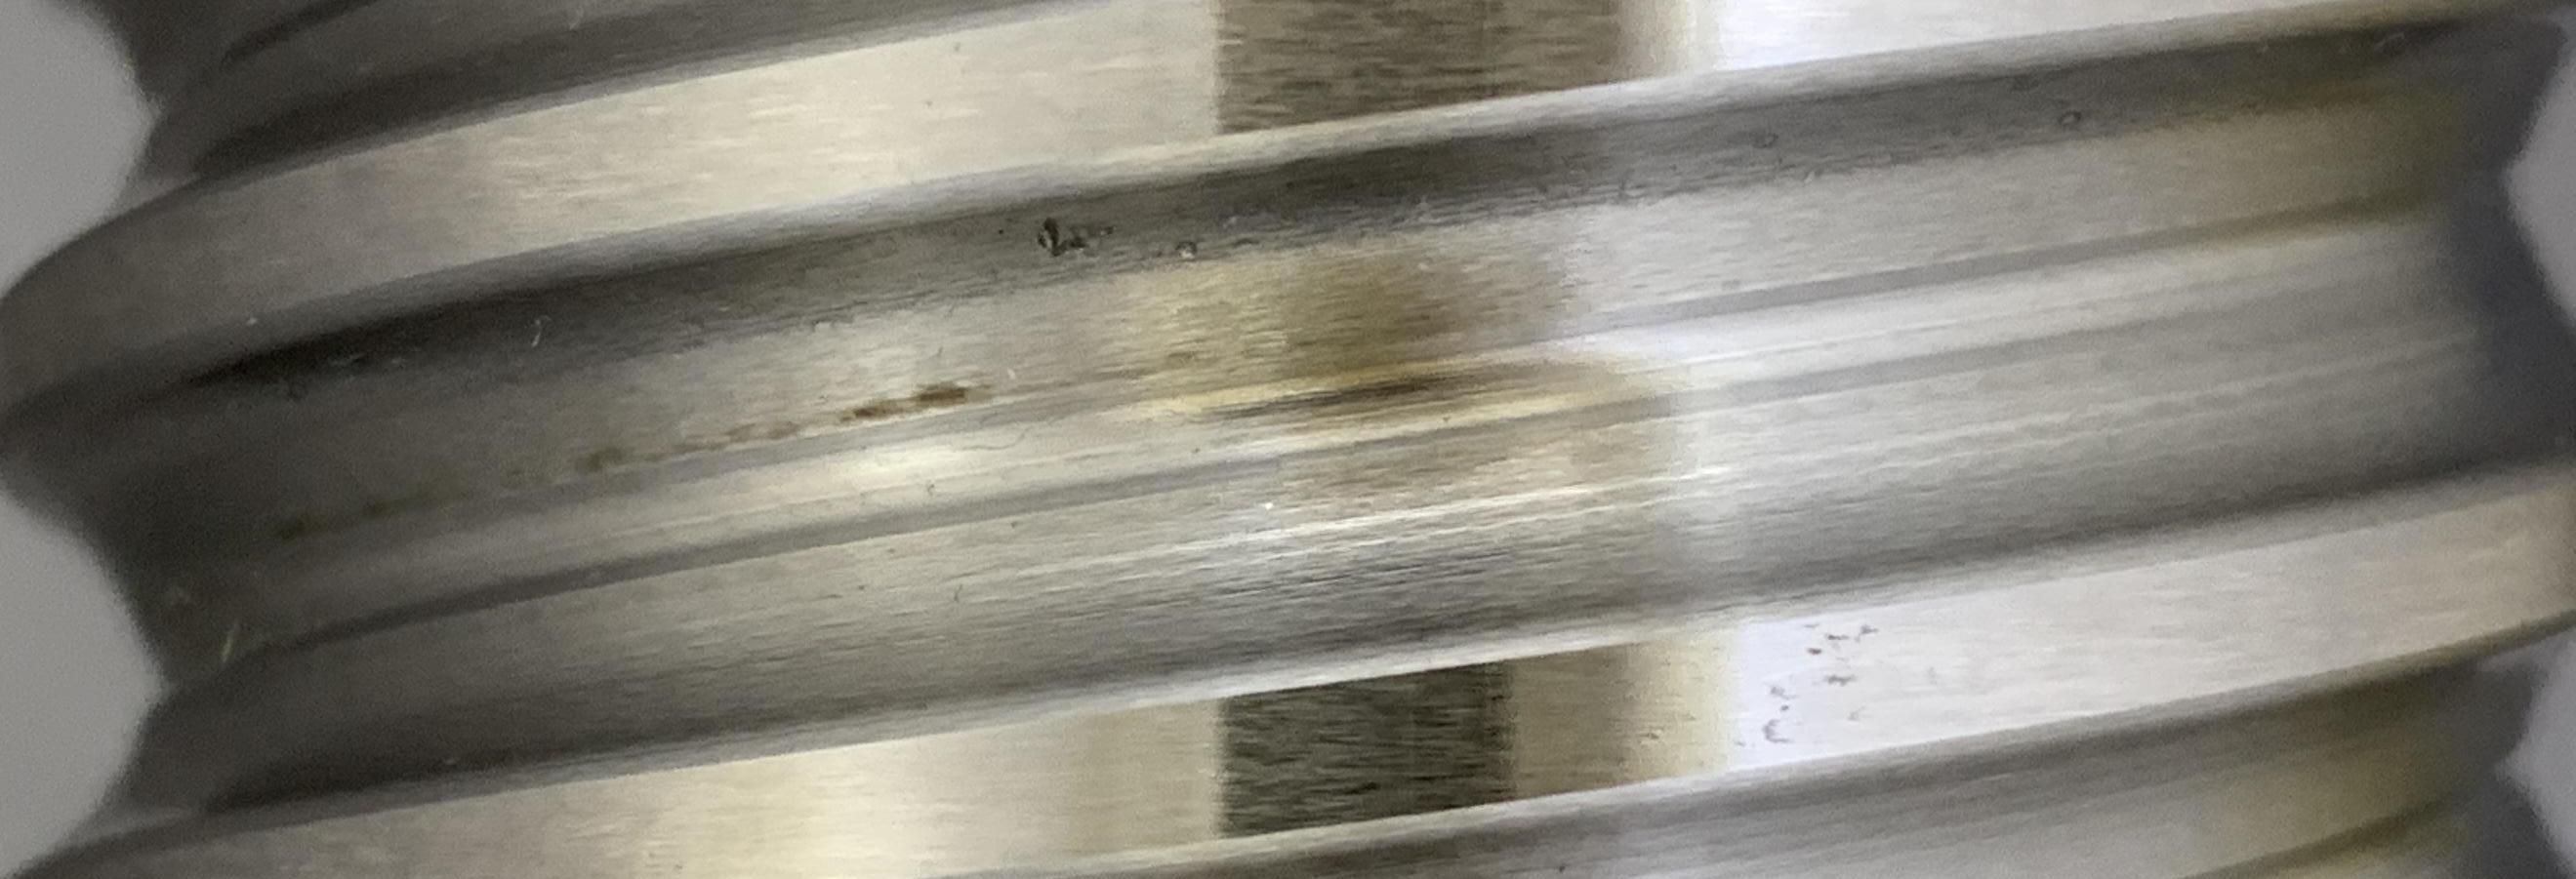pitting: (1038, 215, 1091, 256)
